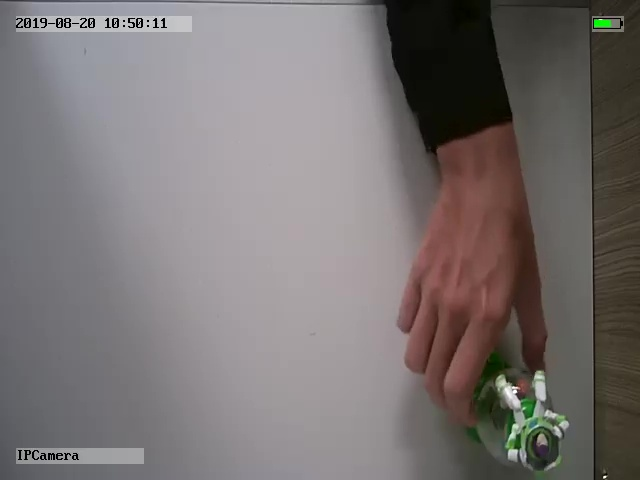buzz: (464, 363, 570, 477)
